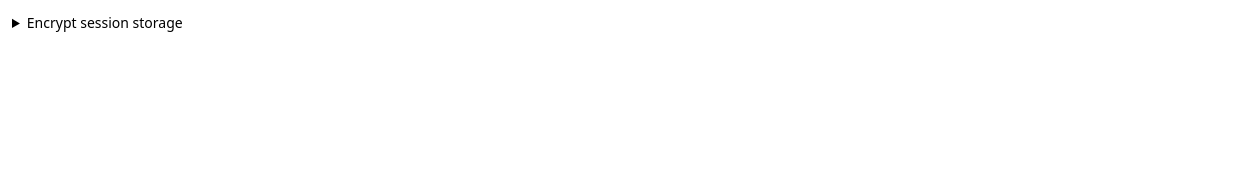
Scenario: retries an initial status failure without closing the settings section
This screenshot has width=1235, height=172.
Click the heading "Encrypt session storage": (105, 22) [27, 13, 183, 32]
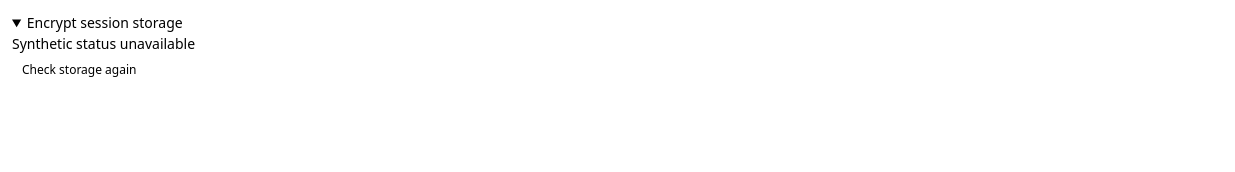
Check: the message reads "Synthetic status unavailable", box [12, 34, 195, 53]
Click the button "Check storage again": (79, 70) [12, 55, 146, 85]
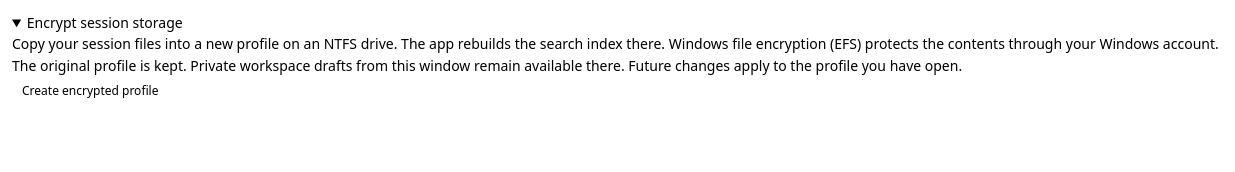
Check: the button "Create encrypted profile" is shown, box [12, 76, 168, 106]
Check: the message "Synthetic status unavailable" is gone
